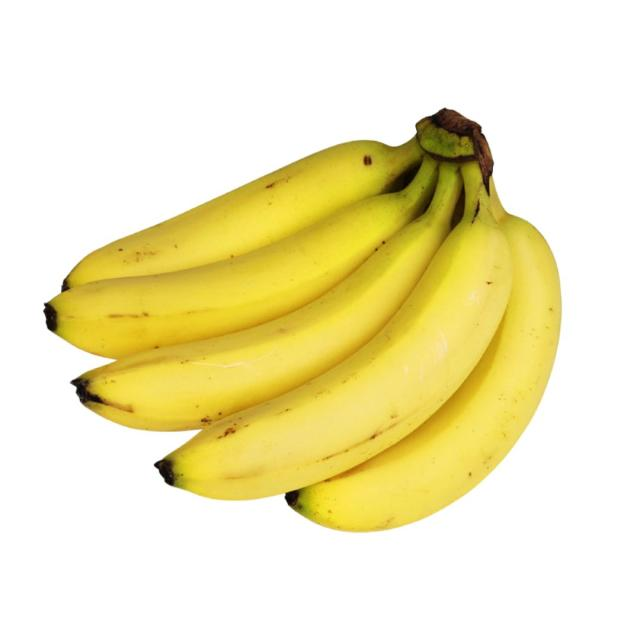Pisang: (42, 107, 561, 535)
